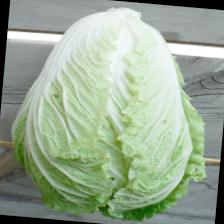cabbage: (1, 0, 219, 224)
